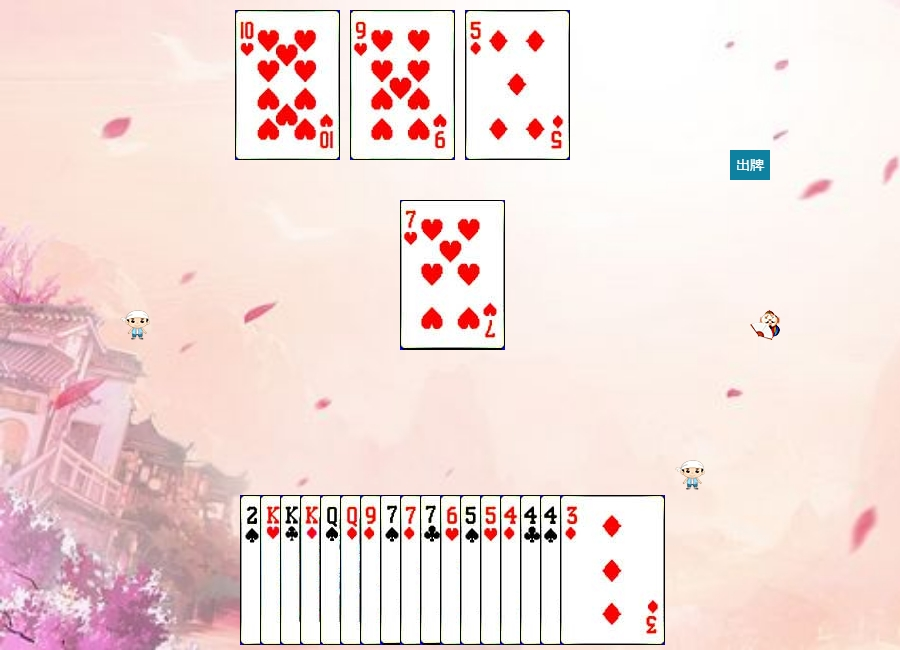10~3: (235, 10, 340, 160)
12~1: (340, 495, 445, 645)
12~4: (320, 495, 425, 645)
13~1: (300, 495, 405, 645)
13~2: (280, 495, 385, 645)
13~3: (260, 495, 365, 645)
15~4: (240, 495, 345, 645)
3~1: (560, 495, 665, 645)
4~1: (500, 495, 605, 645)
4~2: (520, 495, 625, 645)
4~4: (540, 495, 645, 645)
5~1: (465, 10, 570, 160)
5~3: (480, 495, 585, 645)
5~4: (460, 495, 565, 645)
6~3: (440, 495, 545, 645)
7~1: (400, 495, 505, 645)
7~2: (420, 495, 525, 645)
7~3: (400, 200, 505, 350)
7~4: (380, 495, 485, 645)
9~1: (360, 495, 465, 645)
9~3: (350, 10, 455, 160)
